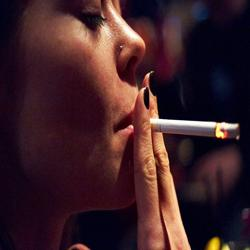smoking: (111, 86, 241, 153)
